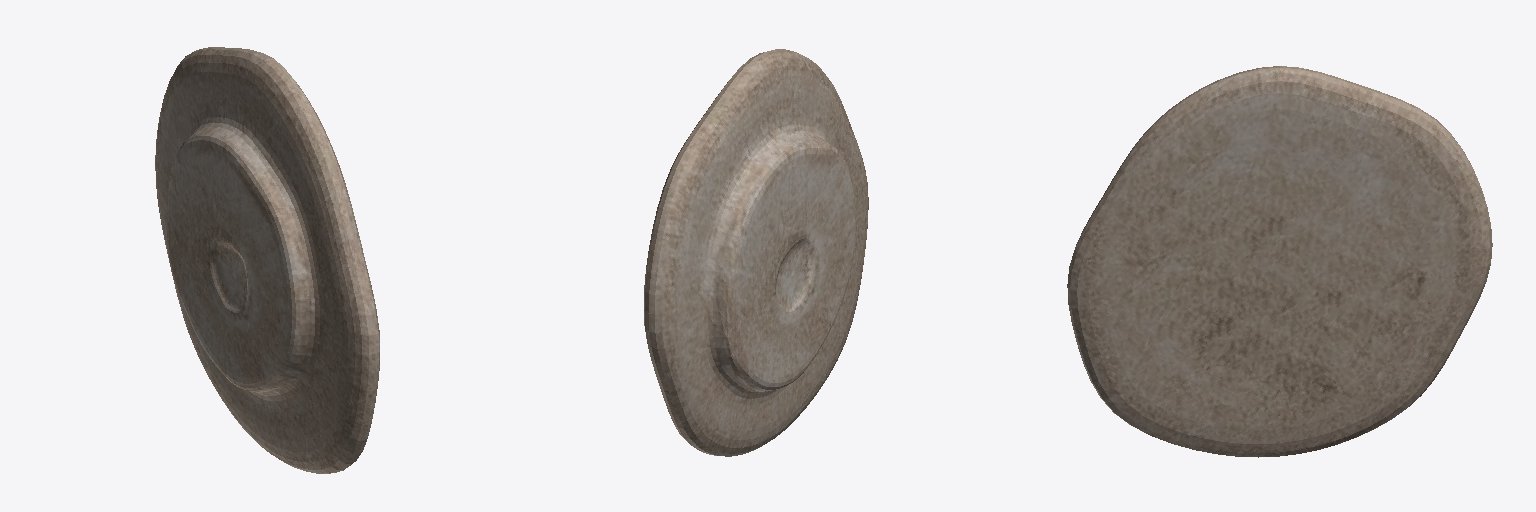
The picture shows the model from 3 angles: view 1: azimuth 30°, elevation 25°; view 2: azimuth 150°, elevation 25°; view 3: azimuth 270°, elevation 25°; orthographic projection.
Visible parts, largest first — view 1: KiwiFruitPeduncle; view 2: KiwiFruitPeduncle; view 3: KiwiFruitPeduncle.
Part boxes in pixels (x1,y1,x2,y2): KiwiFruitPeduncle: (155, 47, 379, 473); KiwiFruitPeduncle: (644, 49, 868, 456); KiwiFruitPeduncle: (1067, 66, 1492, 457).
Bounding box in the file's own units: 0.0017 × 0.0119 × 0.0117.
1 materials, 1 textured.